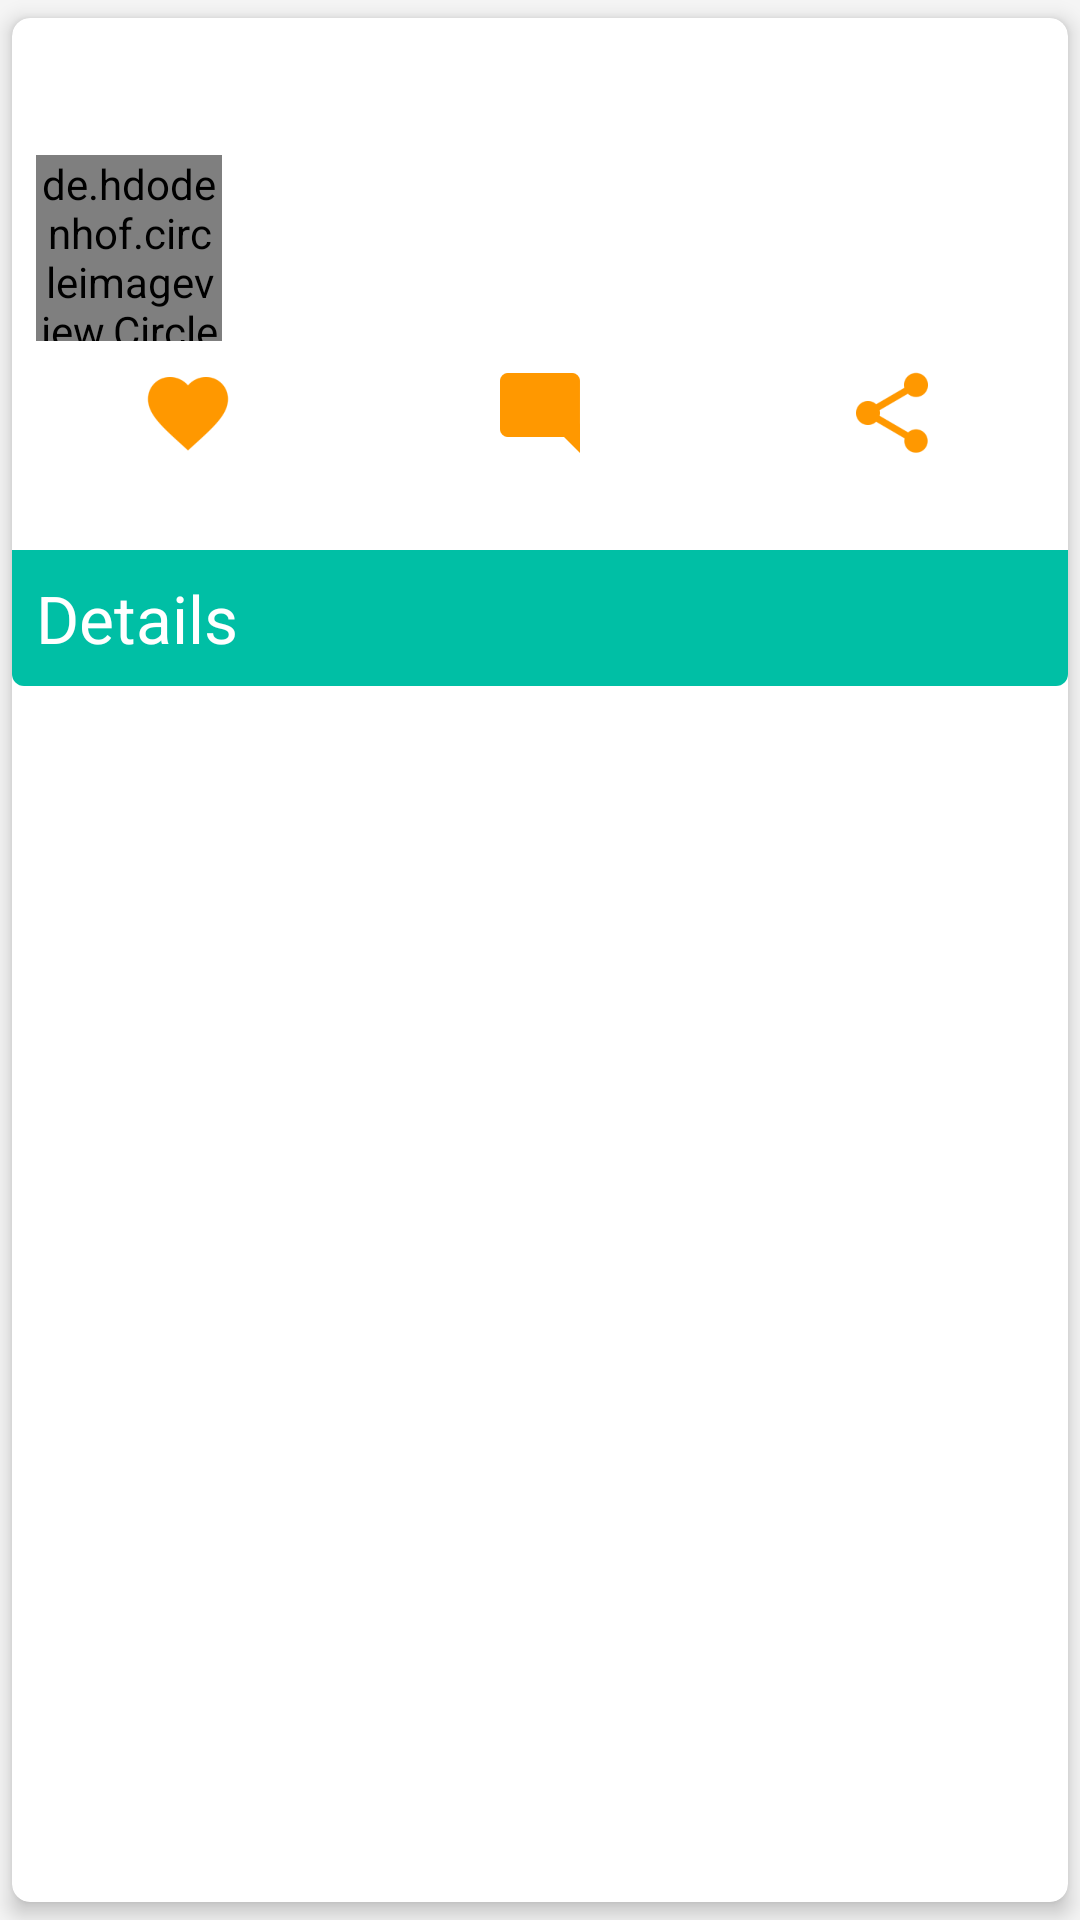

Screen size 1080px x 1920px. Icon name, then its center in pixels as (x=x, y=y):
comments: (x=540, y=413)
favorite: (x=188, y=414)
social share: (x=892, y=412)
